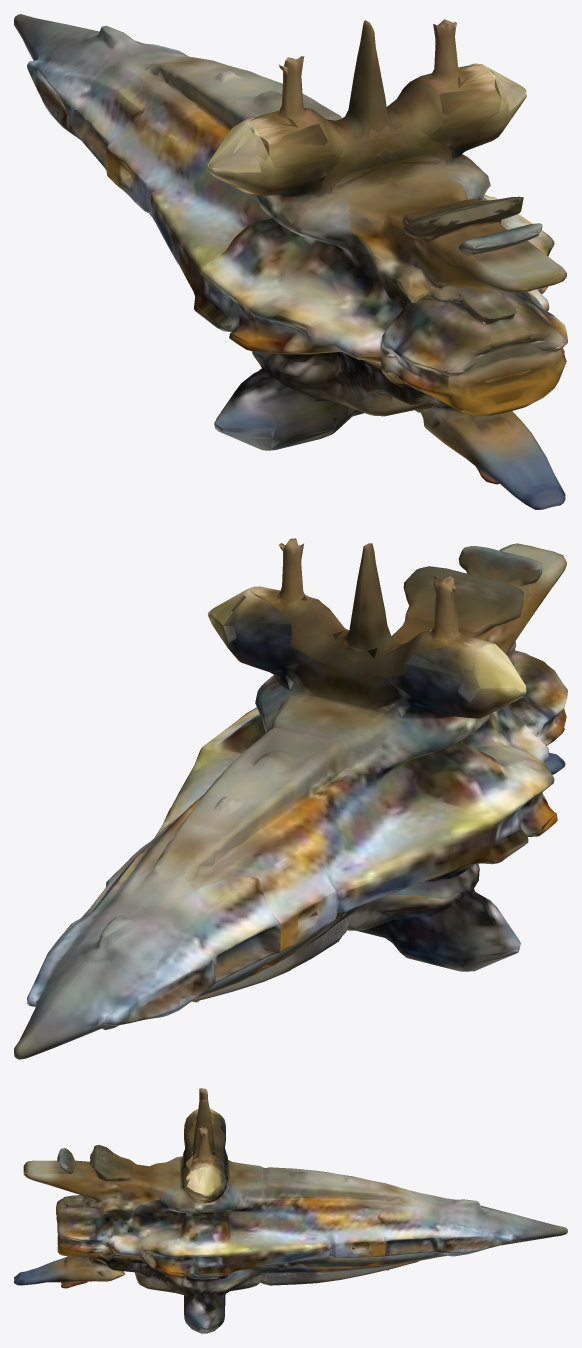
The model's file is solarion_cruiser.glb.
3 views of the same model, one above another, from view 1: azimuth 30°, elevation 25°; view 2: azimuth 150°, elevation 25°; view 3: azimuth 270°, elevation 25° (orthographic). The views are drawn at different scales.
Parts seen in each view (by area): view 1: solarion_frigate; view 2: solarion_frigate; view 3: solarion_frigate.
Boxes of the visible parts, box(x1,y1,x2,y2) form: solarion_frigate: box(14, 14, 567, 509); solarion_frigate: box(14, 538, 567, 1059); solarion_frigate: box(14, 1088, 567, 1333).
Bounding box in the file's own units: 0.0557 × 0.0669 × 0.1622.
1 material, 1 textured.
